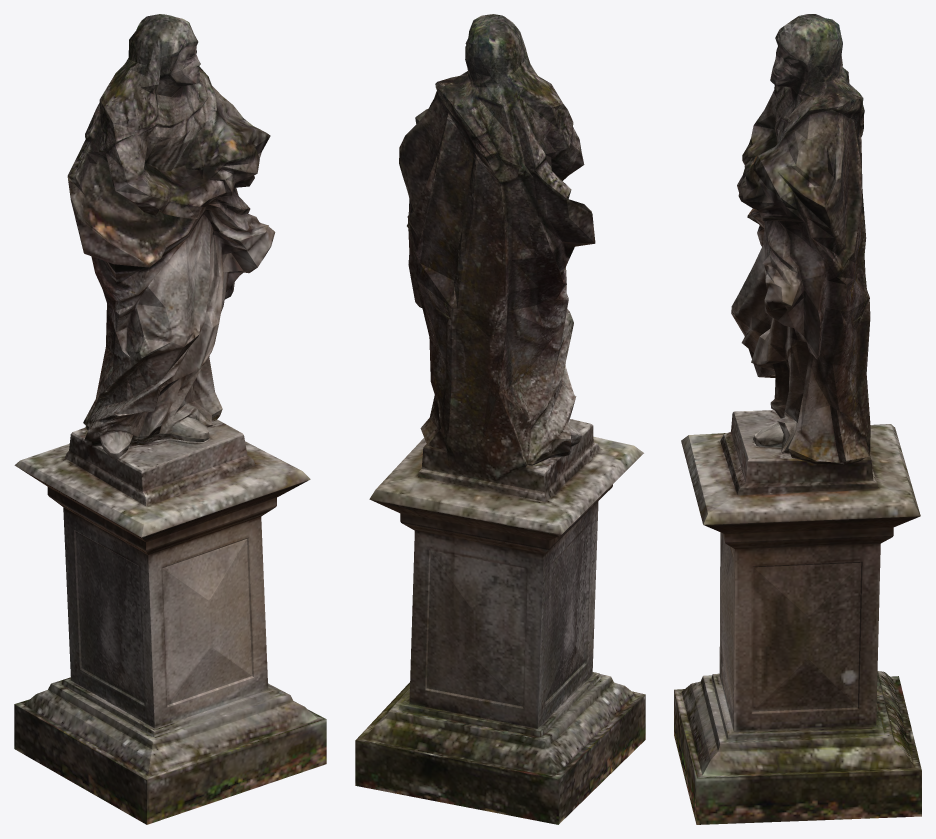
File: Statu_lowpoly.obj
3 renders of one model, left to right at view 1: azimuth 30°, elevation 25°; view 2: azimuth 150°, elevation 25°; view 3: azimuth 270°, elevation 25°, orthographic. The views are drawn at different scales.
Visible parts, largest first — view 1: Statu_Cube.000; view 2: Statu_Cube.000; view 3: Statu_Cube.000.
Boxes of the visible parts, <box> form: Statu_Cube.000: <box>14,14,326,824</box>; Statu_Cube.000: <box>355,14,645,824</box>; Statu_Cube.000: <box>674,14,921,824</box>.
Bounding box in the file's own units: 1.57 × 5.14 × 1.52.
1 material, 1 textured.
